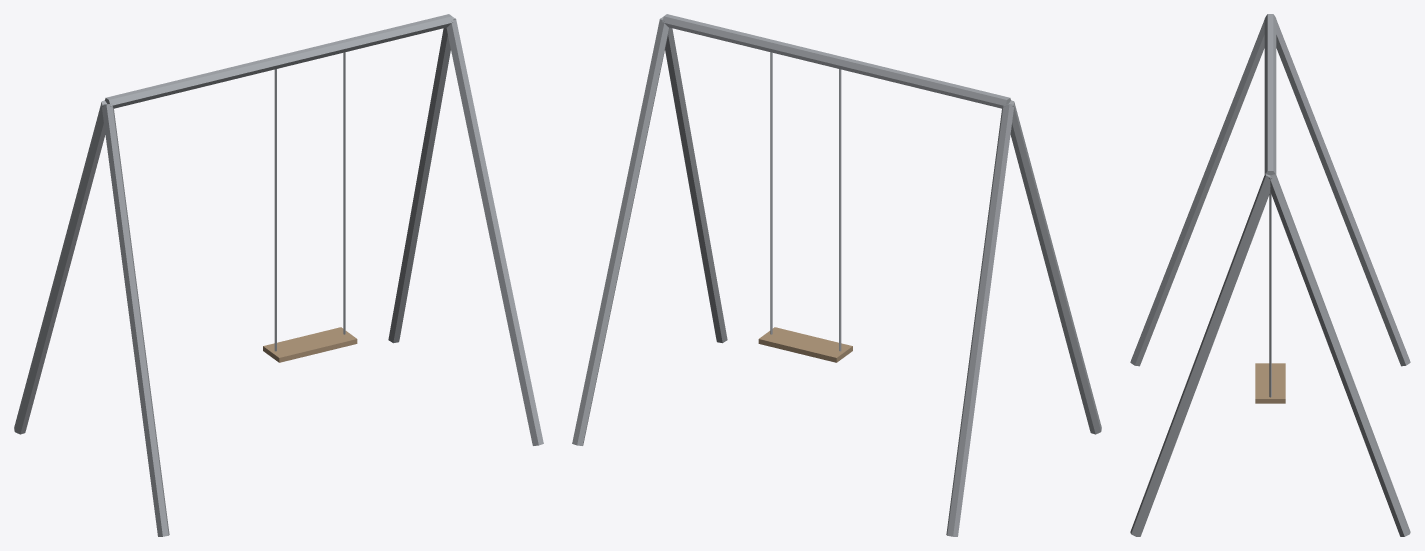
Rendered from swing.glb.
3 views of the same model, side by side, from view 1: azimuth 30°, elevation 25°; view 2: azimuth 150°, elevation 25°; view 3: azimuth 270°, elevation 25° (orthographic). The views are drawn at different scales.
Parts seen in each view (by area): view 1: swing, swing_seat; view 2: swing, swing_seat; view 3: swing, swing_seat.
Part boxes in pixels (x1,y1,x2,y2): swing: (14,14,543,536); swing_seat: (263,52,357,362); swing: (572,14,1101,536); swing_seat: (758,52,852,362); swing: (1130,14,1410,536); swing_seat: (1255,192,1285,403).
Bounding box in the file's own units: 2.47 × 2.34 × 1.66.
